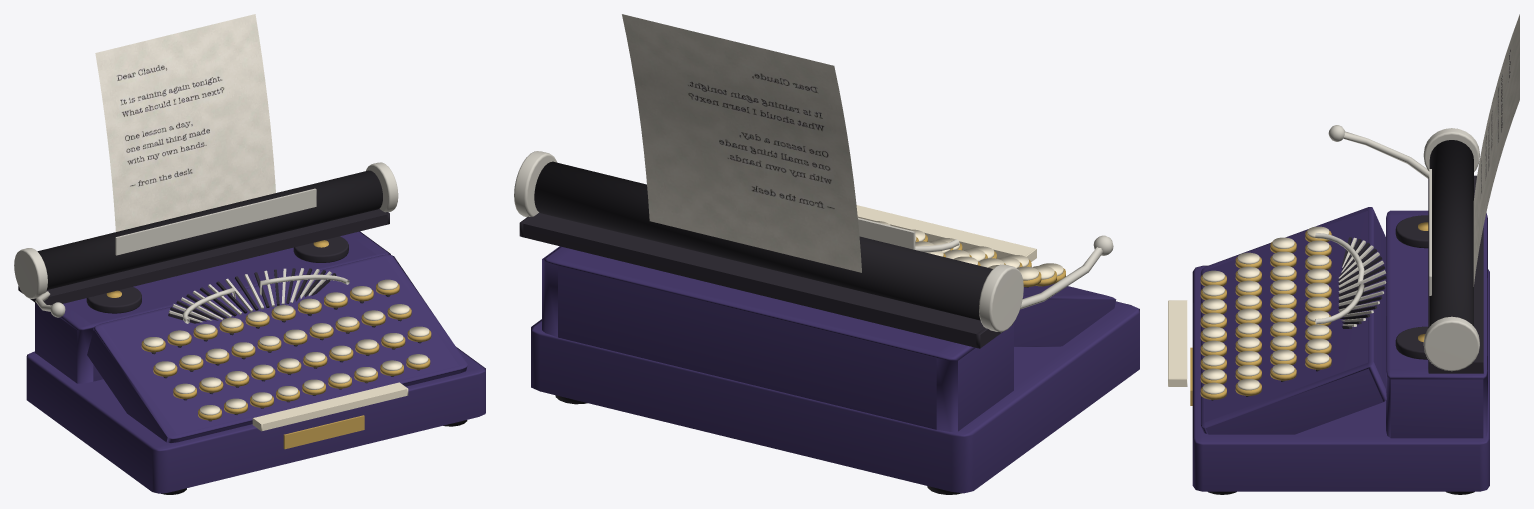
Rendered from typewriter.glb.
3 views of the same model, side by side, from view 1: azimuth 30°, elevation 25°; view 2: azimuth 150°, elevation 25°; view 3: azimuth 270°, elevation 25° (orthographic). The views are drawn at different scales.
Visible parts, largest first — view 1: tw_body, tw_page, tw_carriage_metal, tw_platen, tw_key_tops, tw_key_rims, tw_basket, tw_spools, tw_plate, tw_chrome; view 2: tw_body, tw_page, tw_carriage_metal, tw_platen, tw_key_tops; view 3: tw_body, tw_key_tops, tw_platen, tw_carriage_metal, tw_key_rims, tw_page, tw_basket, tw_spools, tw_chrome.
Boxes of the visible parts, x1,y1,x2,y2 form: tw_body: (26,231,485,493); tw_page: (95,14,275,231); tw_carriage_metal: (14,162,398,317); tw_platen: (37,170,382,289); tw_key_tops: (143,279,429,431); tw_key_rims: (141,283,431,420); tw_basket: (168,268,336,323); tw_spools: (86,236,348,313); tw_plate: (283,415,364,449); tw_chrome: (183,274,349,323); tw_body: (531,246,1139,493); tw_page: (622,14,861,272); tw_carriage_metal: (514,151,1113,348); tw_platen: (534,161,992,320); tw_key_tops: (856,205,1063,280); tw_body: (1192,207,1489,491); tw_key_tops: (1168,226,1329,394); tw_platen: (1429,140,1473,326); tw_carriage_metal: (1328,125,1483,373); tw_key_rims: (1200,230,1331,399); tw_page: (1473,14,1519,286); tw_basket: (1338,237,1386,328); tw_spools: (1395,215,1428,359); tw_chrome: (1315,233,1364,324).
Bounding box in the file's own units: 1.16 × 0.92 × 0.8275.
8 materials, 1 textured.
